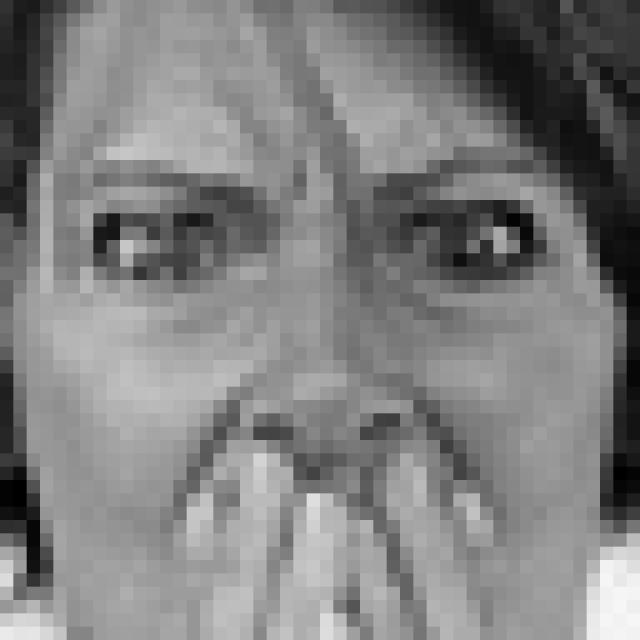fear: (74, 149, 567, 593)
